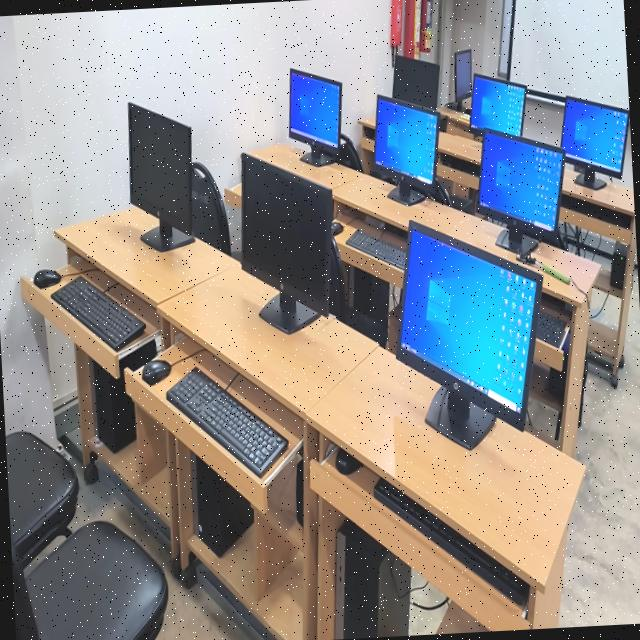Chair: (11, 521, 169, 640), (6, 432, 79, 567), (329, 234, 388, 347), (191, 162, 231, 255), (338, 133, 363, 172)
Cpu: (335, 519, 412, 640), (91, 341, 157, 453), (192, 455, 254, 556), (353, 268, 389, 332)
Fire Extinguisher: (404, 0, 421, 58), (420, 0, 434, 53)
Keyboard: (374, 478, 530, 612), (167, 367, 288, 478), (52, 277, 146, 351), (347, 230, 405, 270), (537, 307, 570, 351)
Monitor: (397, 221, 542, 450), (241, 153, 333, 334), (477, 130, 564, 259), (129, 103, 195, 252), (375, 95, 439, 205), (561, 96, 630, 189), (290, 69, 342, 166), (471, 74, 527, 136), (392, 56, 439, 110), (454, 49, 473, 101)
Mouse: (332, 220, 344, 237)
